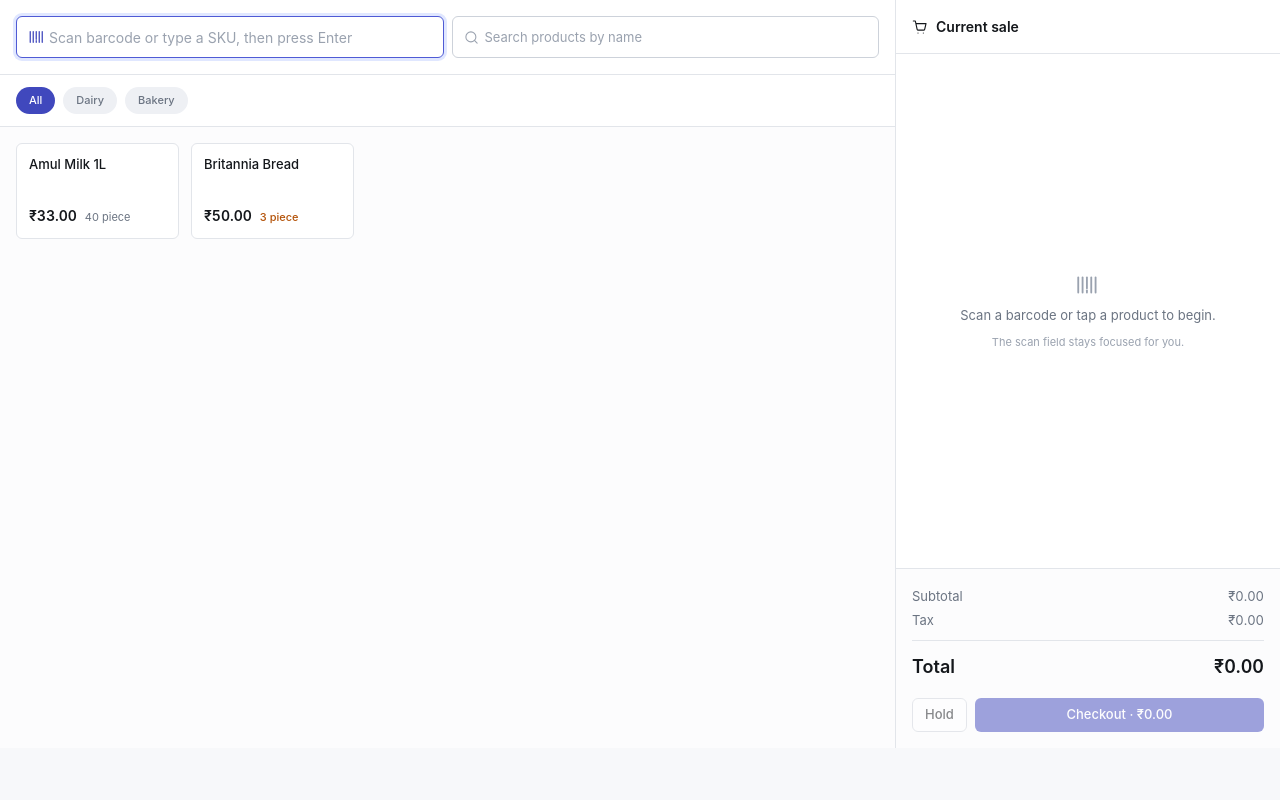
Scenario: POS cart › adds a product to the cart when its tile is tapped
Click the button "Amul Milk 1L ₹33.00 40 piece": [98, 190] box [16, 142, 179, 238]
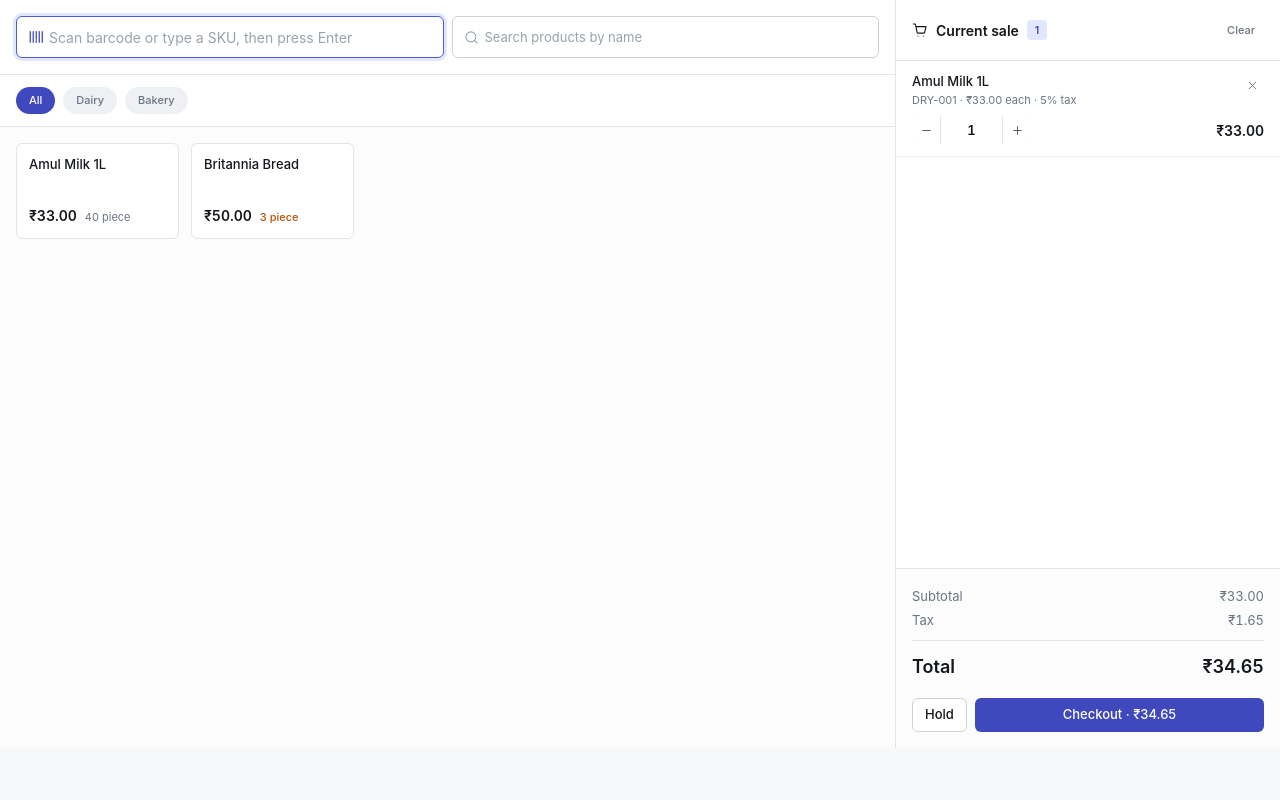
Result: the text "Amul Milk 1L" below "Current sale" is shown at [912, 73, 989, 89]
